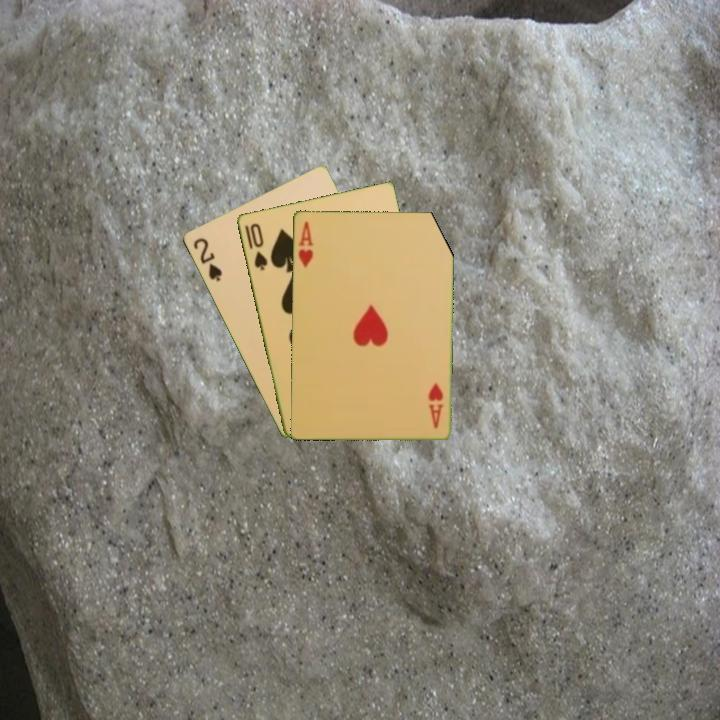10s: (246, 219, 270, 273)
2s: (189, 234, 225, 285)
Ah: (294, 218, 316, 270), (425, 379, 446, 431)
